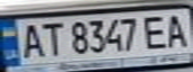3: (87, 17, 109, 54)
4: (103, 16, 124, 53)
7: (121, 15, 142, 52)
8: (66, 18, 90, 55)
A: (160, 11, 193, 48), (15, 20, 45, 58)
E: (139, 12, 172, 51)
T: (36, 19, 66, 56)
